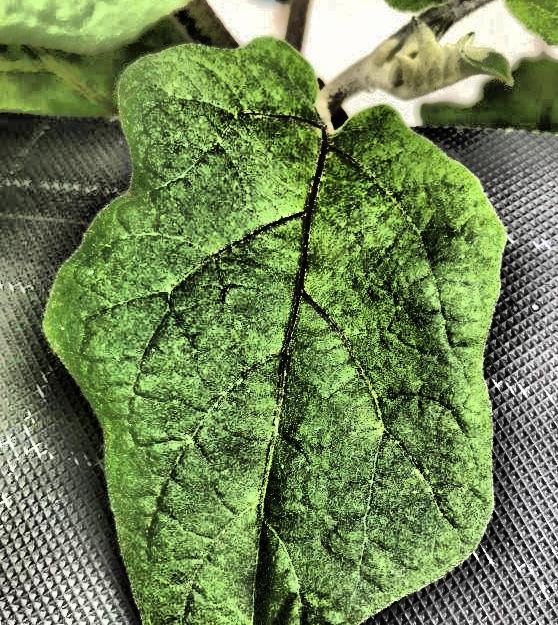HEALTHY: (24, 0, 558, 432)
